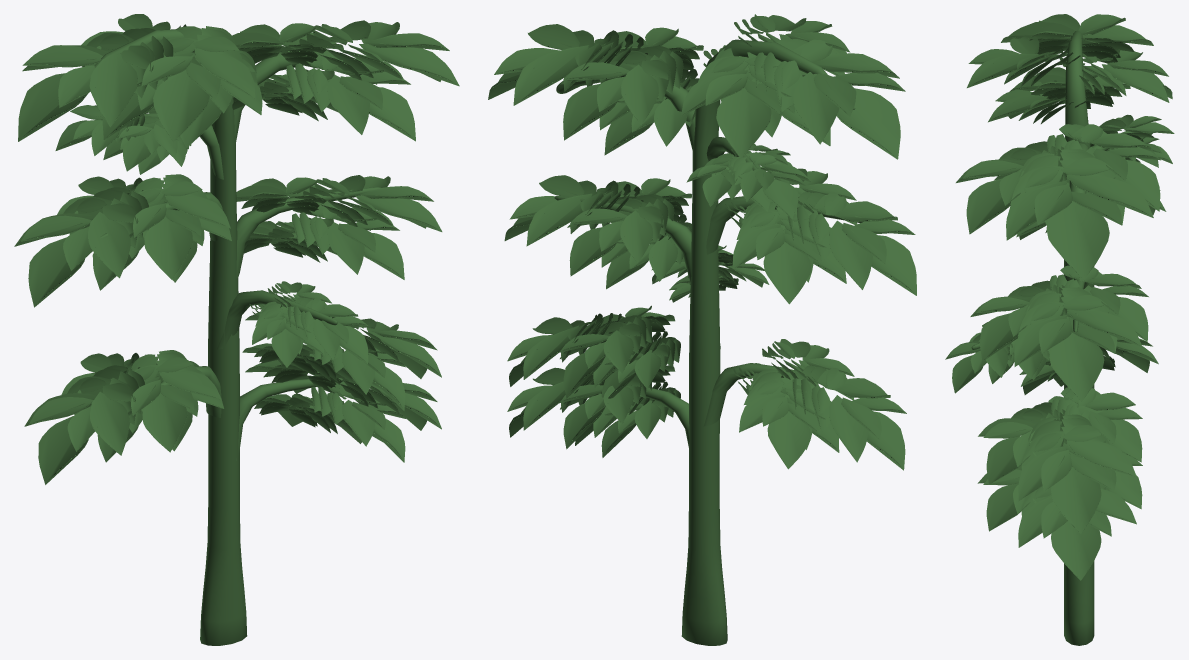
File: Growth Sprout.fbx
The picture shows the model from 3 angles, left to right: view 1: azimuth 30°, elevation 25°; view 2: azimuth 150°, elevation 25°; view 3: azimuth 270°, elevation 25°; orthographic projection. The views are drawn at different scales.
Visible parts, largest first — view 1: LeafSprout2 (×14), Long_Sprout, LeafSprout4 (×6), LeafSprout1 (×8), LeafSprout10 (×9), LeafSprout9 (×4), Long_Sprout6, Long_Sprout2, Long_Sprout5, Long_Sprout1, Long_Sprout7; view 2: LeafSprout2 (×13), Long_Sprout, LeafSprout4 (×15), LeafSprout10 (×9), LeafSprout1 (×6), LeafSprout9 (×4), Long_Sprout4, Long_Sprout3, Long_Sprout2, Long_Sprout1, Long_Sprout5; view 3: LeafSprout2 (×14), LeafSprout4 (×12), LeafSprout10 (×13), LeafSprout1 (×7), LeafSprout9 (×11), Long_Sprout, LeafSprout11 (×3), LeafSprout6 (×3), LeafSprout12 (×2), LeafSprout7.
Part boxes in pixels (left/top/right/bottom): LeafSprout2 (×14): left=18, top=70, right=415, bottom=484; Long_Sprout: left=94, top=29, right=247, bottom=645; LeafSprout4 (×6): left=88, top=48, right=255, bottom=455; LeafSprout1 (×8): left=327, top=43, right=459, bottom=446; LeafSprout10 (×9): left=20, top=33, right=449, bottom=424; LeafSprout9 (×4): left=58, top=62, right=220, bottom=451; Long_Sprout6: left=217, top=290, right=337, bottom=349; Long_Sprout2: left=234, top=187, right=380, bottom=279; Long_Sprout5: left=236, top=378, right=342, bottom=460; Long_Sprout1: left=233, top=48, right=361, bottom=145; Long_Sprout7: left=94, top=113, right=223, bottom=179; LeafSprout2 (×13): left=563, top=83, right=916, bottom=470; Long_Sprout: left=681, top=39, right=855, bottom=645; LeafSprout4 (×15): left=513, top=45, right=899, bottom=438; LeafSprout10 (×9): left=528, top=24, right=886, bottom=440; LeafSprout1 (×6): left=681, top=70, right=872, bottom=462; LeafSprout9 (×4): left=494, top=48, right=905, bottom=114; Long_Sprout4: left=703, top=363, right=794, bottom=426; Long_Sprout3: left=706, top=196, right=864, bottom=254; Long_Sprout2: left=554, top=196, right=691, bottom=282; Long_Sprout1: left=556, top=60, right=695, bottom=151; Long_Sprout5: left=599, top=382, right=689, bottom=448; LeafSprout2 (×14): left=952, top=160, right=1160, bottom=580; LeafSprout4 (×12): left=967, top=22, right=1153, bottom=524; LeafSprout10 (×13): left=962, top=14, right=1168, bottom=538; LeafSprout1 (×7): left=1006, top=25, right=1169, bottom=547; LeafSprout9 (×11): left=968, top=14, right=1160, bottom=536; Long_Sprout: left=1064, top=30, right=1094, bottom=645; LeafSprout11 (×3): left=1061, top=157, right=1112, bottom=441; LeafSprout6 (×3): left=1010, top=165, right=1064, bottom=465; LeafSprout12 (×2): left=1025, top=166, right=1060, bottom=321; LeafSprout7: left=1022, top=155, right=1060, bottom=175.
Size of the model in its own units: 27.2 by 38.49 by 14.15.
